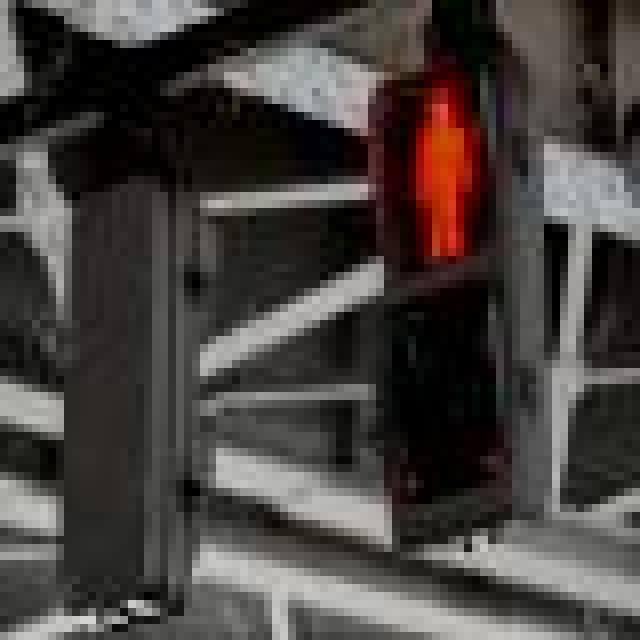redlight: (350, 72, 552, 530)
